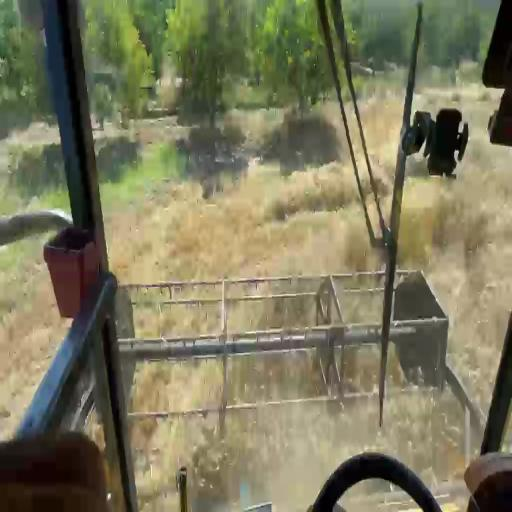arpa: (398, 149, 512, 401), (156, 164, 380, 277)
